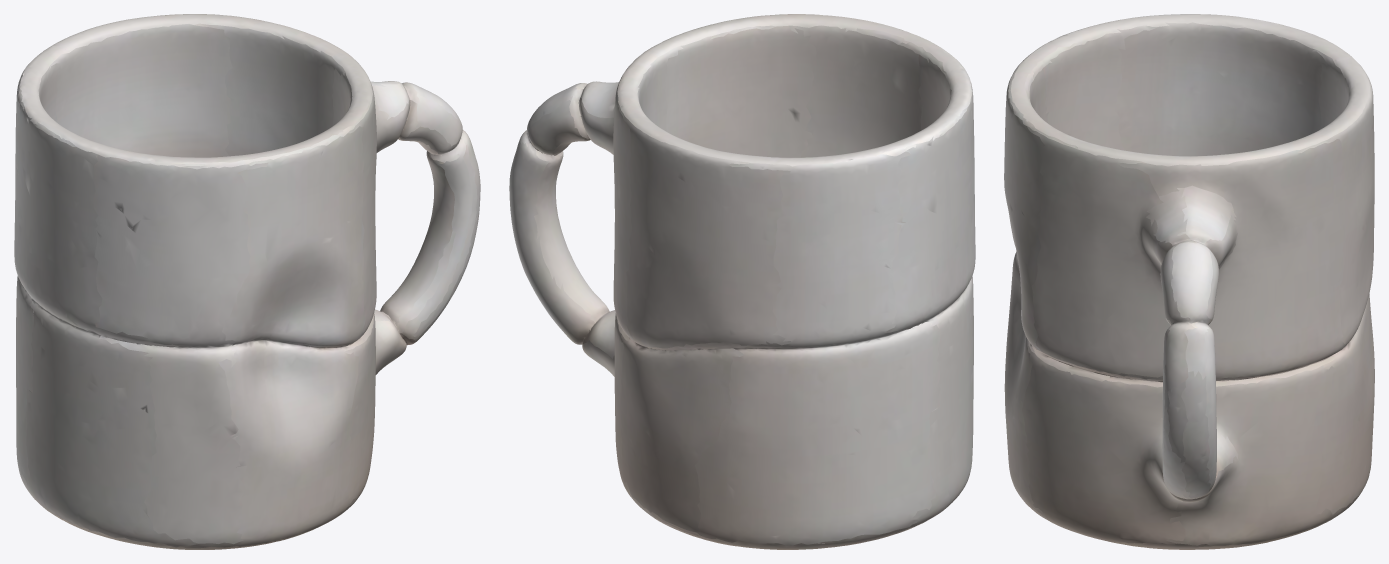
File: opt-test.glb
The picture shows the model from 3 angles, left to right: view 1: azimuth 30°, elevation 25°; view 2: azimuth 150°, elevation 25°; view 3: azimuth 270°, elevation 25°; orthographic projection.
Parts seen in each view (by area): view 1: geometry_0; view 2: geometry_0; view 3: geometry_0.
Part boxes in pixels (box(x1,y1,x2,y2)): geometry_0: box(14, 14, 480, 549); geometry_0: box(509, 14, 975, 549); geometry_0: box(1004, 14, 1374, 549).
Bounding box in the file's own units: 0.196 × 0.17 × 0.1432.
Materials: 1 (1 with a texture image).
